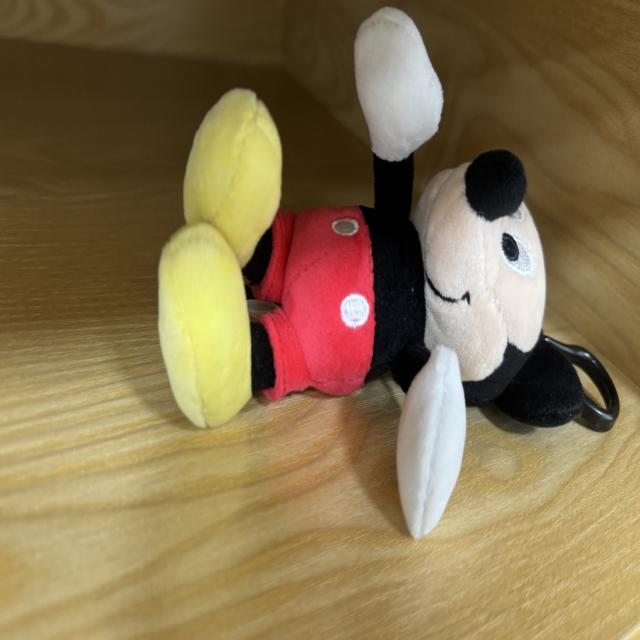mickey: (159, 8, 584, 537)
